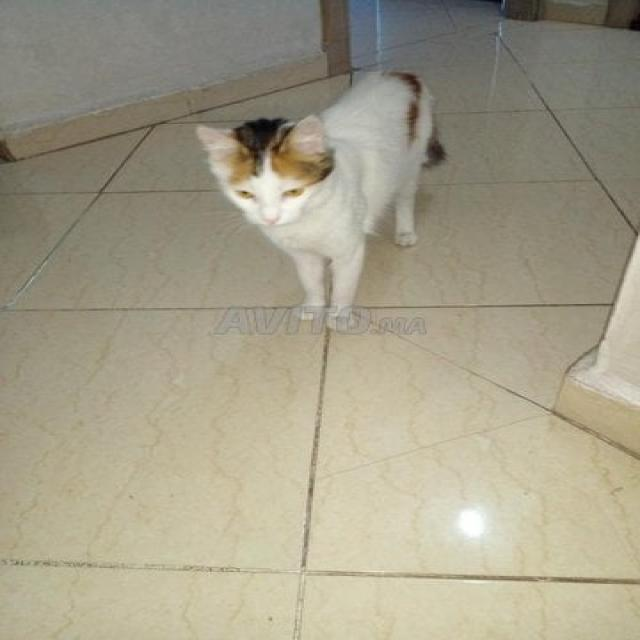cat: (203, 75, 497, 306)
